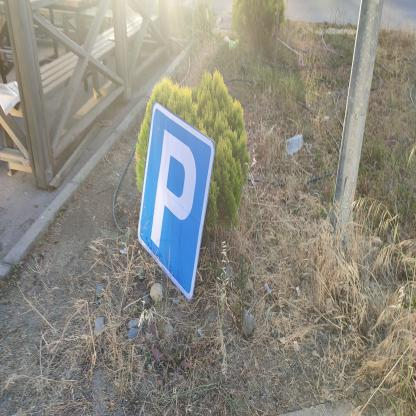Parking-Sign: (139, 101, 217, 303)
